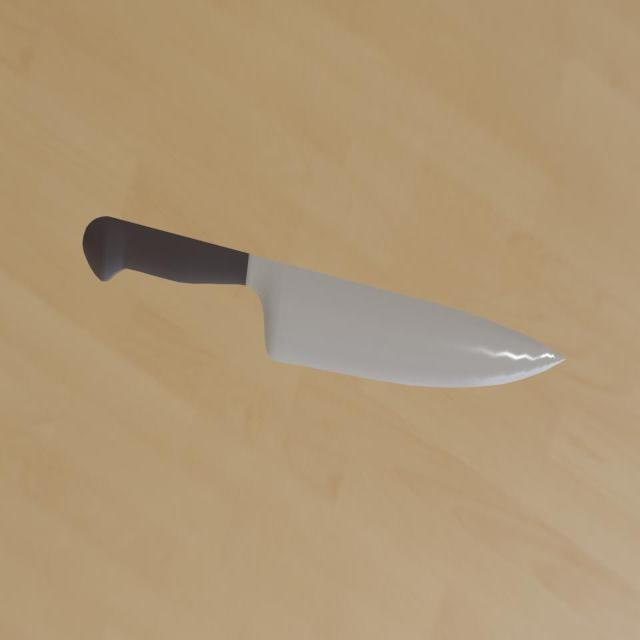knife: (84, 216, 250, 286)
